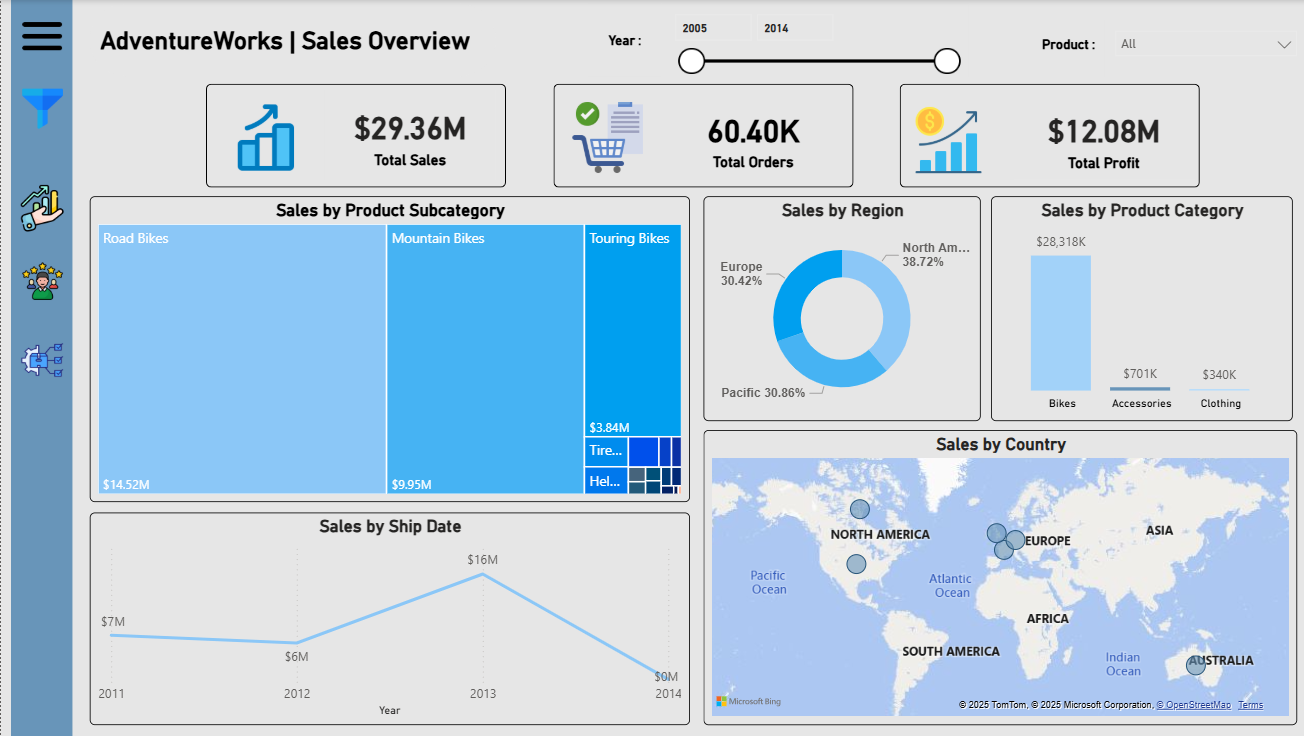

The dashboard page shown, as its layout file describes it:
{"tool":"powerbi","page":{"name":"Sales Overview","canvas":[1280,720],"ordinal":0},"visuals":[{"type":"shape","box":[200.5,81.9,293.5,101.5],"z":0,"group":"g1"},{"type":"shape","box":[540.5,81.9,293.5,101.5],"z":0},{"type":"shape","box":[879.2,81.9,293.5,101.5],"z":1000},{"type":"group","id":"g1","title":"Group 1","box":[200.5,81.9,293.5,101.5],"z":2000},{"type":"card","fields":{"Values":["Sum(FactInternetSales.Total Sales)"]},"box":[316.7,88,167.5,88],"z":3000},{"type":"card","fields":{"Values":["CountNonNull(FactInternetSales.OrderQuantity)"]},"box":[651.8,92.9,168.8,83.2],"z":4000},{"type":"card","fields":{"Values":["FactInternetSales.Total Profit"]},"box":[990.5,94.2,177.3,81.9],"z":5000},{"type":"columnChart","title":"Sales by Product Category","fields":{"Category":["DimProductCategory.Product Category"],"Y":["Sum(FactInternetSales.Total Sales)"]},"box":[968.8,191.7,295,220.1],"z":6000},{"type":"lineChart","title":"Sales by Ship Date","fields":{"Y":["Sum(FactInternetSales.Total Sales)"],"Category":["FactInternetSales.ShipDate.Variation.Date Hierarchy.Year","FactInternetSales.ShipDate.Variation.Date Hierarchy.Quarter","FactInternetSales.ShipDate.Variation.Date Hierarchy.Month","FactInternetSales.ShipDate.Variation.Date Hierarchy.Day"]},"box":[86.8,501.4,587,207.9],"z":7000},{"type":"map","title":"Sales by Country","fields":{"Size":["Sum(FactInternetSales.Total Sales)"],"Category":["DimGeography (2).EnglishCountryRegionName"]},"box":[687.2,420.7,580.8,288.6],"z":8000},{"type":"slicer","fields":{"Values":["DimDate.FullDateAlternateKey.Variation.Date Hierarchy.Year"]},"box":[646.9,3.7,299.6,70.9],"z":9000},{"type":"slicer","fields":{"Values":["DimProductCategory.Product Category"]},"box":[1079.8,19.6,198.1,55],"z":10000},{"type":"shape","box":[9.8,0,59.9,720.2],"z":11000},{"type":"image","box":[14.7,12.2,51.4,46.5],"z":12000},{"type":"image","box":[12.2,176.1,56.3,55],"z":13000},{"type":"image","box":[15.9,250.7,50.1,48.9],"z":14000},{"type":"image","box":[14.7,328.9,51.4,46.5],"z":15000},{"type":"shape","box":[86.8,3.7,397.4,70.9],"z":16000},{"type":"shape","box":[1008.8,11,70.9,63.6],"z":17000},{"type":"shape","box":[574.7,3.7,70.9,70.9],"z":18000},{"type":"image","box":[885.3,97.8,83.2,78.3],"z":19000},{"type":"image","box":[547.8,92.9,91.7,83.2],"z":20000},{"type":"image","box":[210.3,92.9,97.8,83.2],"z":21000},{"type":"image","box":[14.7,81.9,52.6,48.9],"z":22000},{"type":"treemap","title":"Sales by Product Subcategory","fields":{"Group":["DimProductSubcategory.Product Subcategory"],"Values":["Sum(FactInternetSales.Total Sales)"]},"box":[86.8,192,587,299.6],"z":23000},{"type":"donutChart","title":" Sales by Region","fields":{"Y":["Sum(FactInternetSales.Total Sales)"],"Category":["DimSalesTerritory.SalesTerritoryGroup"]},"box":[687.3,191.7,271,220.1],"z":24000}]}

Visuals, with their boxes on the page's 1280x720 design canvas (x1, y1, x2, y2). These are canvas units, not pixel positions in the 1304x736 screenshot, which may show the page scaled, cropped or inside an application window:
shape: (200,82,494,183)
shape: (540,82,834,183)
shape: (879,82,1173,183)
"Group 1" group: (200,82,494,183)
card - Sum(FactInternetSales.Total Sales): (317,88,484,176)
card - CountNonNull(FactInternetSales.OrderQuantity): (652,93,821,176)
card - FactInternetSales.Total Profit: (990,94,1168,176)
"Sales by Product Category" columnChart: (969,192,1264,412)
"Sales by Ship Date" lineChart: (87,501,674,709)
"Sales by Country" map: (687,421,1268,709)
slicer - DimDate.FullDateAlternateKey.Variation.Date Hierarchy.Year: (647,4,946,75)
slicer - DimProductCategory.Product Category: (1080,20,1278,75)
shape: (10,0,70,720)
image: (15,12,66,59)
image: (12,176,68,231)
image: (16,251,66,300)
image: (15,329,66,375)
shape: (87,4,484,75)
shape: (1009,11,1080,75)
shape: (575,4,646,75)
image: (885,98,968,176)
image: (548,93,640,176)
image: (210,93,308,176)
image: (15,82,67,131)
"Sales by Product Subcategory" treemap: (87,192,674,492)
" Sales by Region" donutChart: (687,192,958,412)
